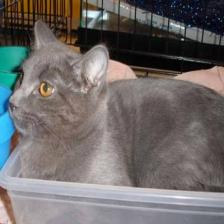cat: (7, 16, 115, 145)
